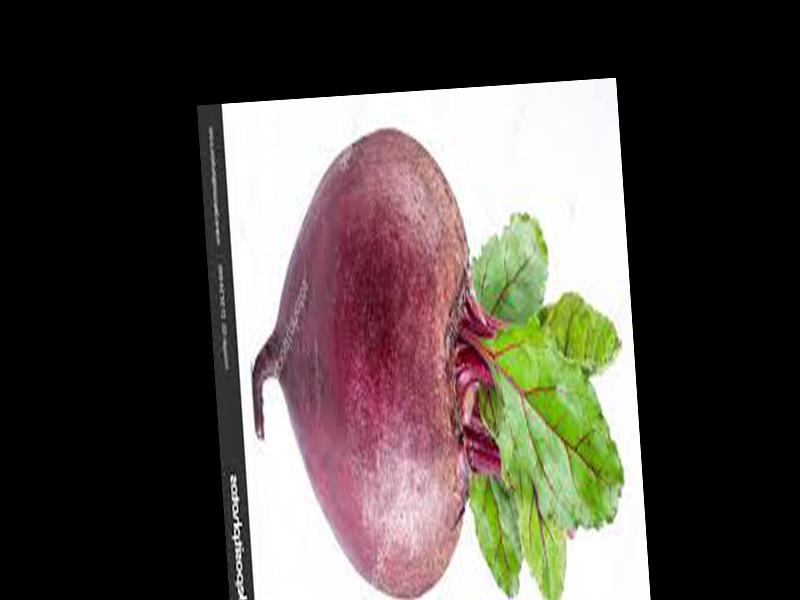Beet: (238, 113, 637, 600)
